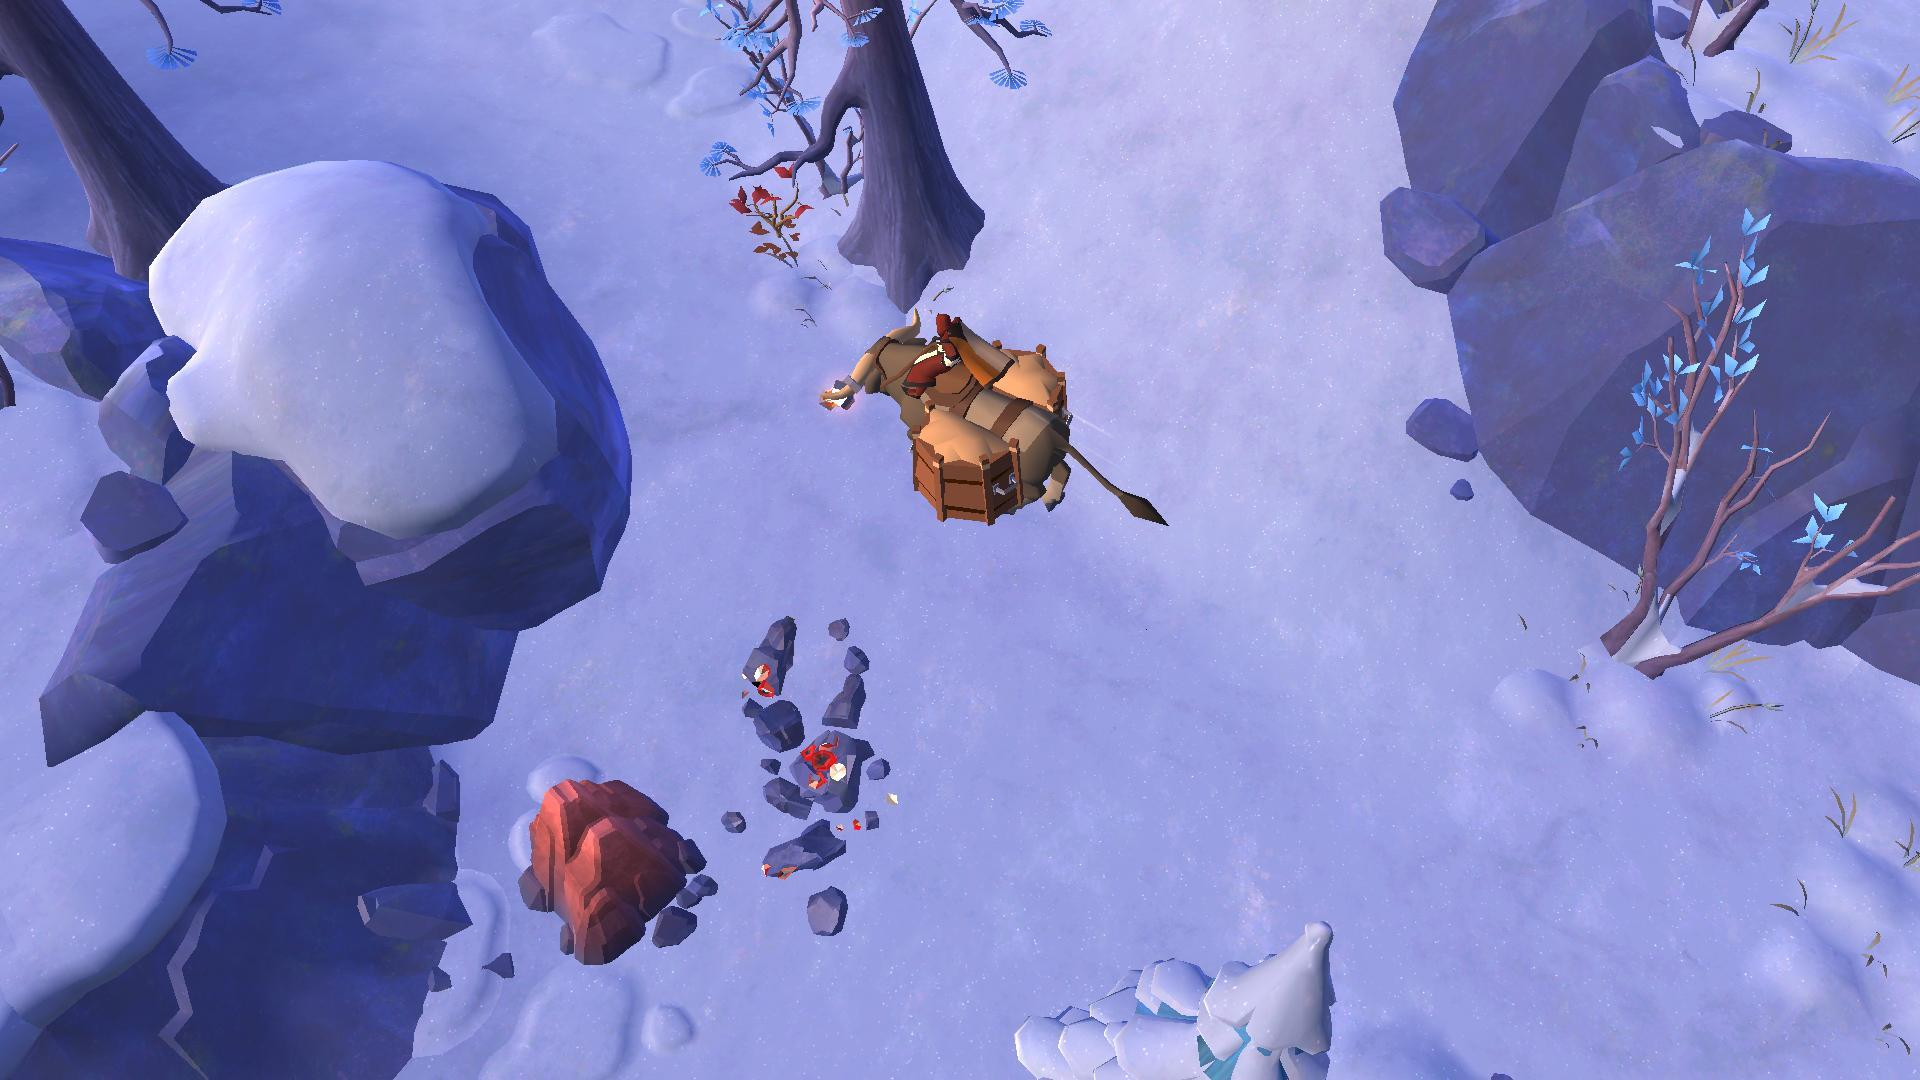rock_t5: (518, 773, 702, 963)
